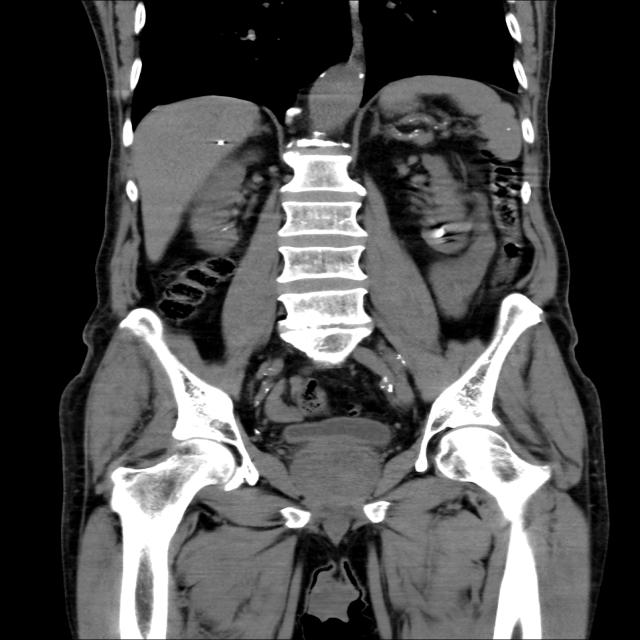kidneystone: (430, 229, 446, 239)
